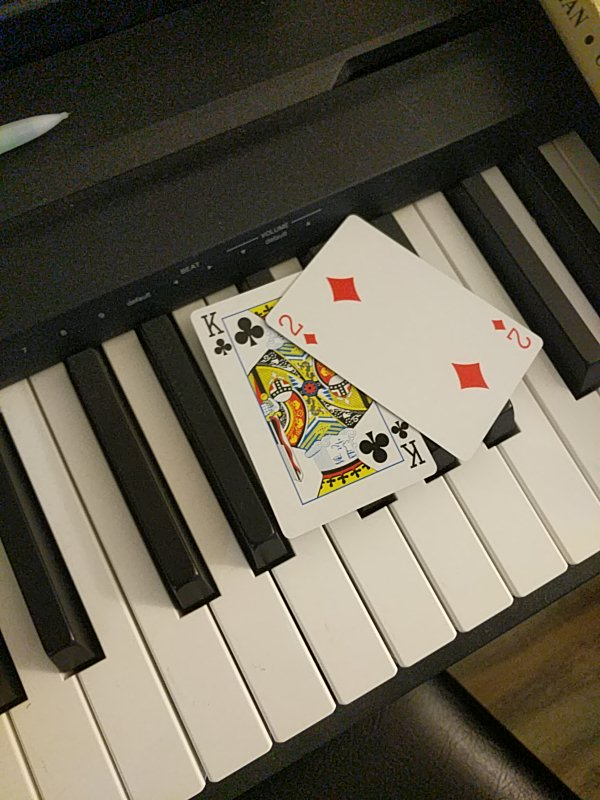Clubs: (189, 269, 439, 540)
Diamonds: (266, 211, 546, 463)
